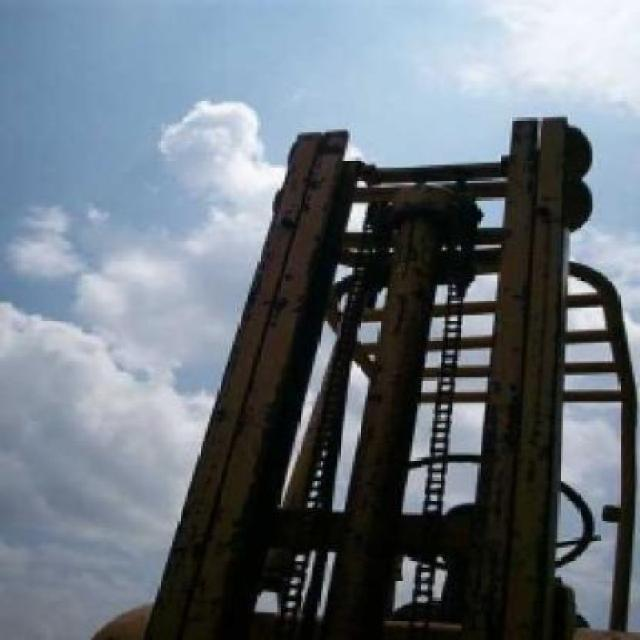forklift: (95, 118, 640, 640)
